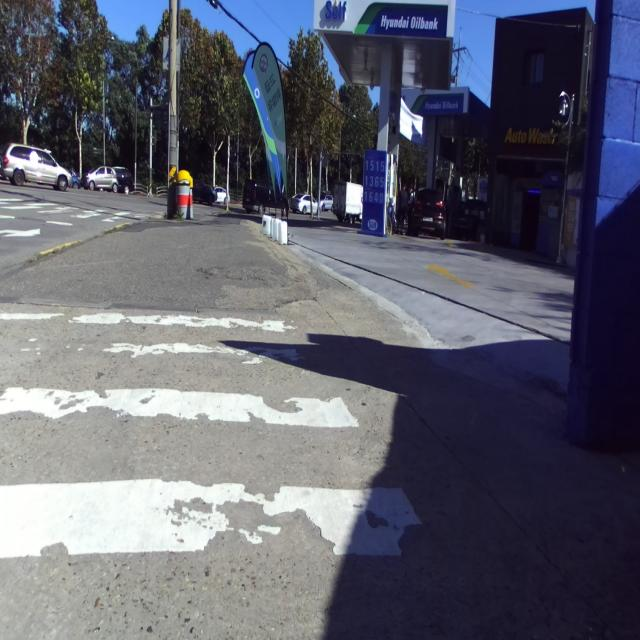횡단보도: (0, 312, 421, 556)
